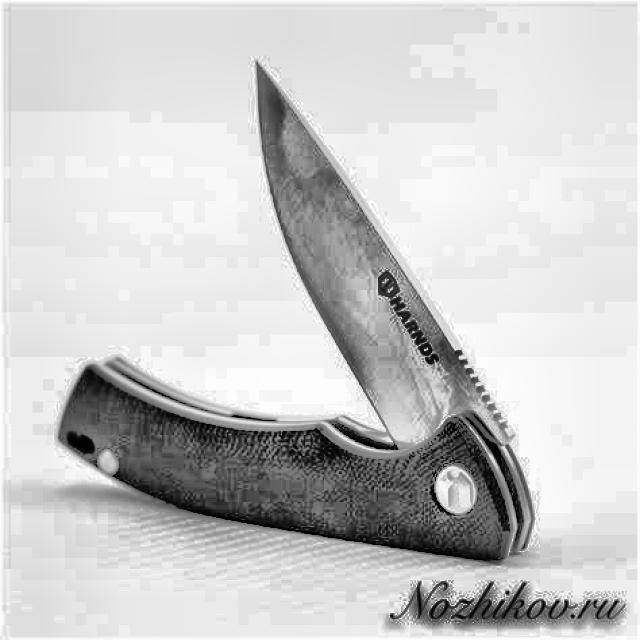pisau: (51, 33, 538, 569)
